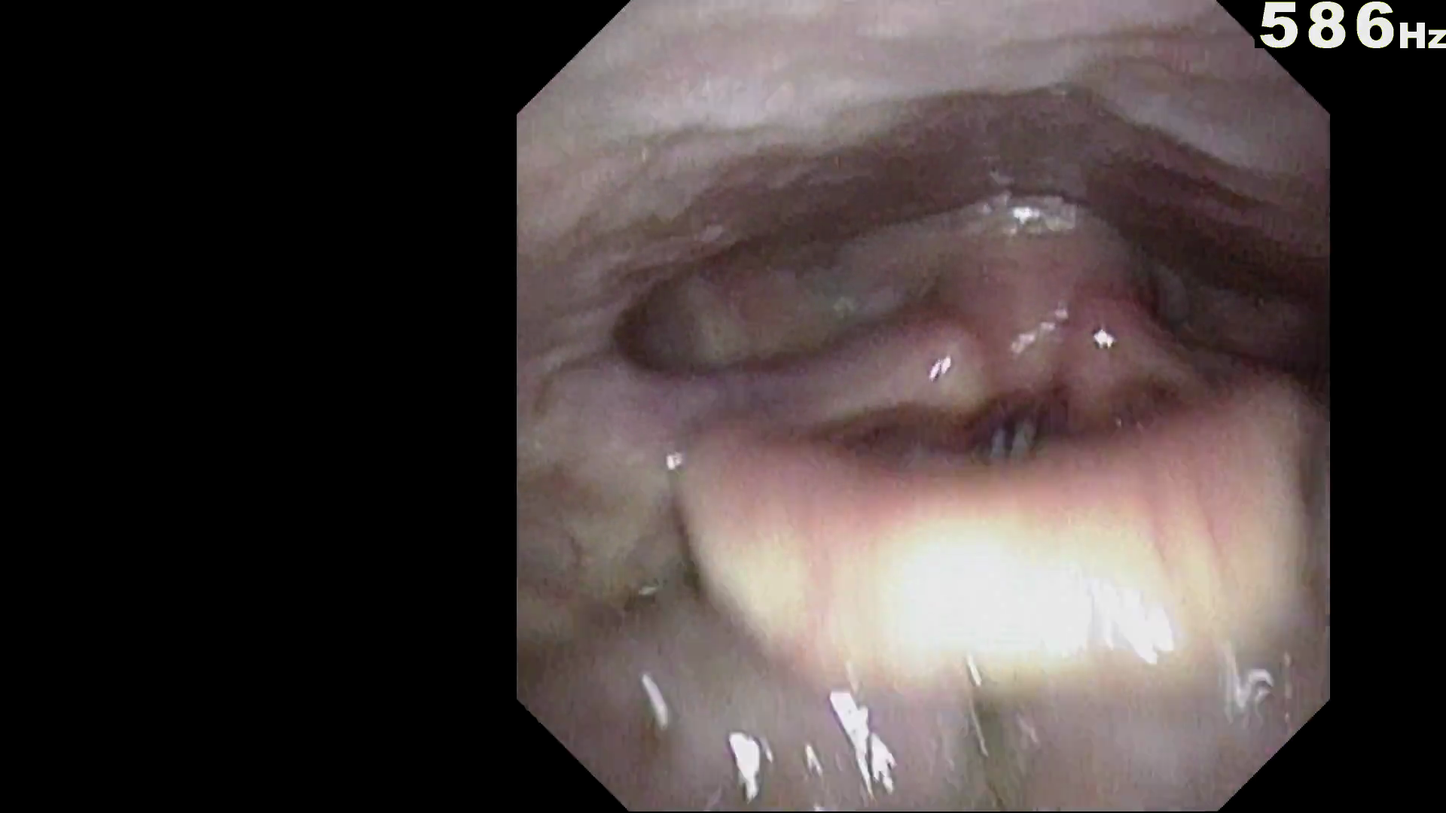epiglottis: (701, 337, 1274, 567)
trachea: (971, 360, 1067, 490)
